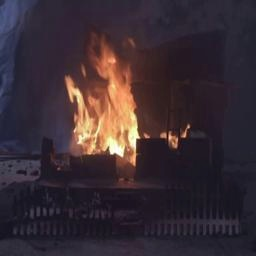fire: (50, 33, 154, 163)
